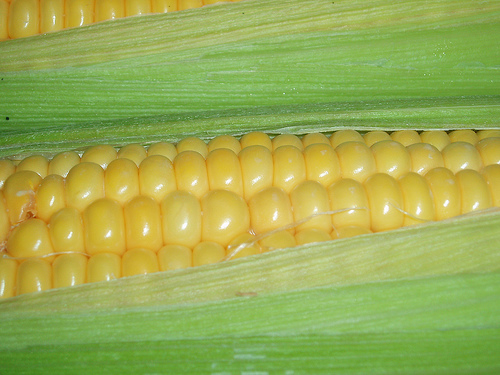corn: (0, 129, 499, 374), (1, 1, 498, 130)
